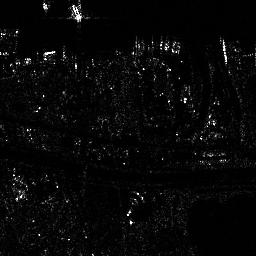ship: (134, 38, 184, 53)
